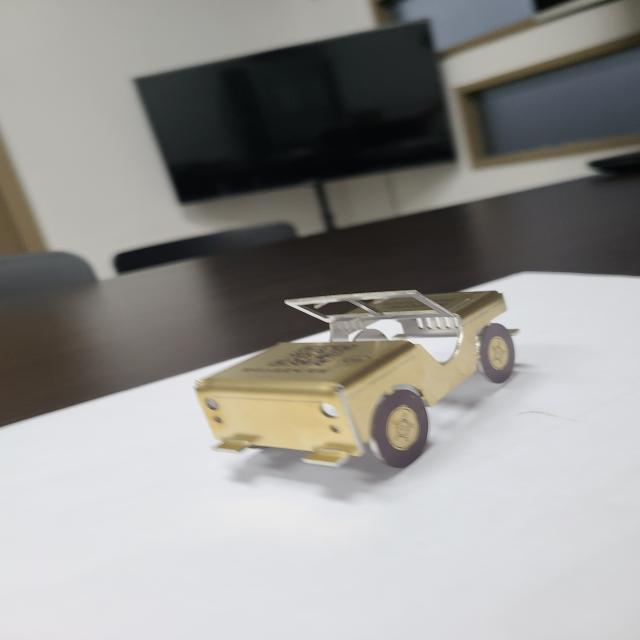tire: (369, 390, 427, 468), (477, 324, 514, 384)
